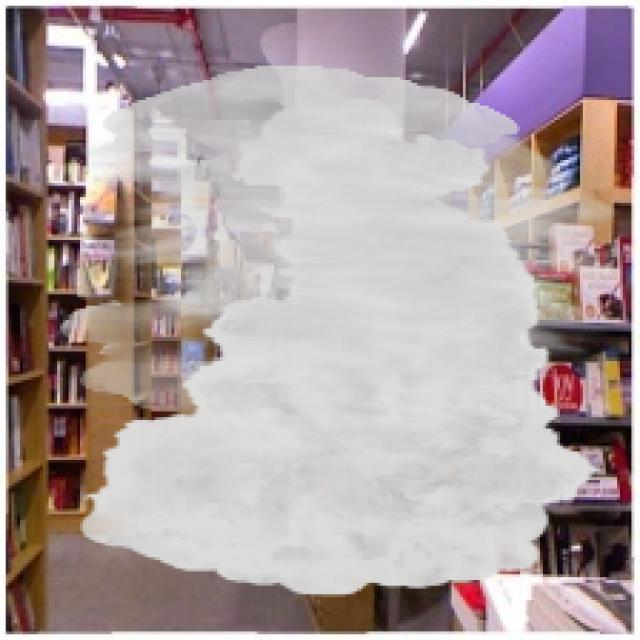Smoke: (60, 65, 623, 598)
